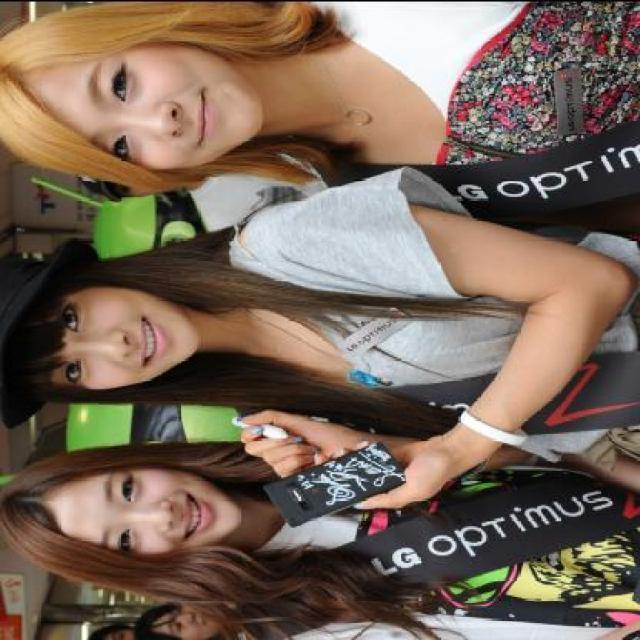phone: (242, 443, 413, 523)
